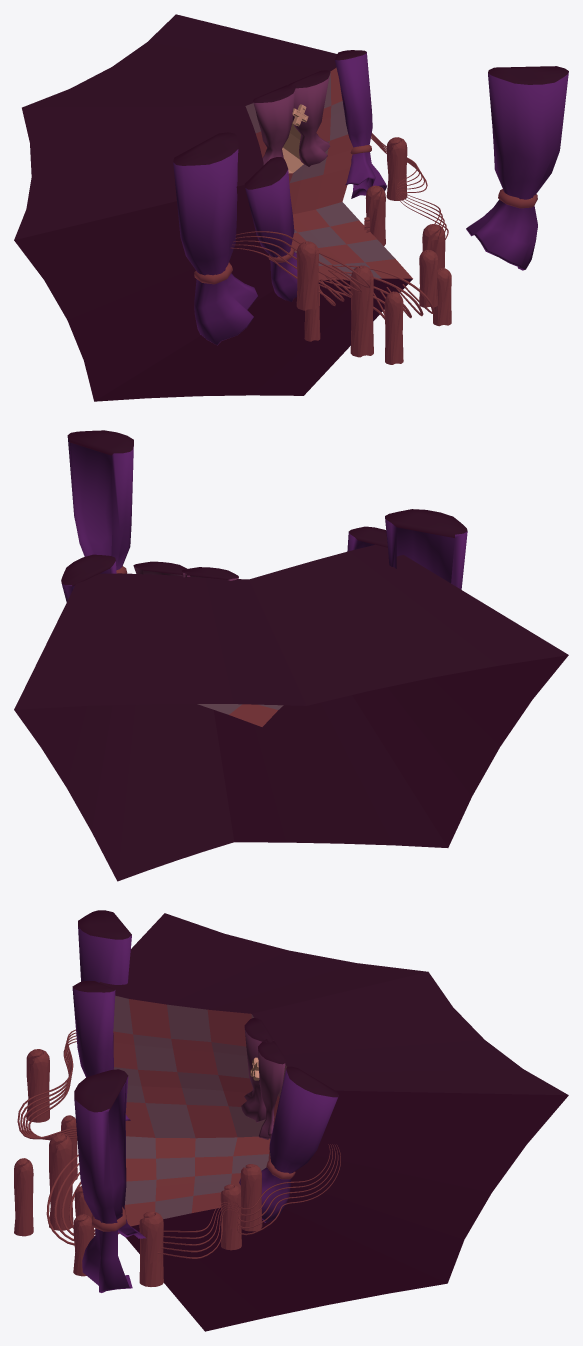
Rendered from MusicPuzzleBlockRedesign3.fbx.
The picture shows the model from 3 angles, top to bottom: view 1: azimuth 30°, elevation 25°; view 2: azimuth 150°, elevation 25°; view 3: azimuth 270°, elevation 25°; orthographic projection. The views are drawn at different scales.
Visible parts, largest first — view 1: PuzzleEnvironment, FrontCurtains; view 2: PuzzleEnvironment, FrontCurtains; view 3: PuzzleEnvironment, FrontCurtains.
Part boxes in pixels (x1,y1,x2,y2): PuzzleEnvironment: (14, 14, 451, 401); FrontCurtains: (173, 66, 568, 345); PuzzleEnvironment: (14, 526, 568, 881); FrontCurtains: (67, 430, 467, 589); PuzzleEnvironment: (14, 913, 568, 1331); FrontCurtains: (74, 910, 146, 1292).
Bounding box in the file's own units: 7780 × 4529 × 6775.
